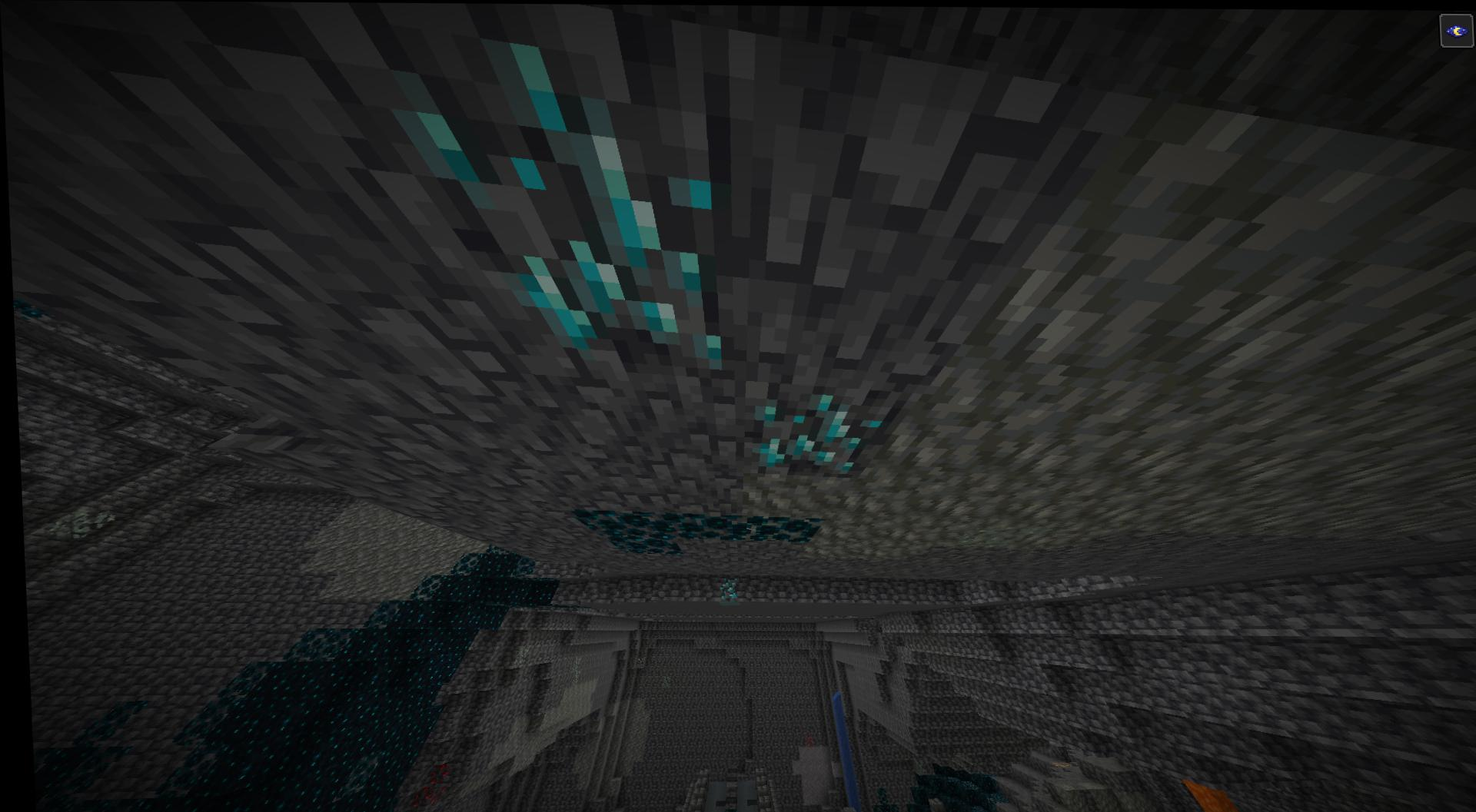diamond ore: (446, 63, 729, 376), (735, 383, 870, 478), (714, 574, 737, 599)
redstone ore: (405, 758, 444, 805), (797, 732, 810, 748)
